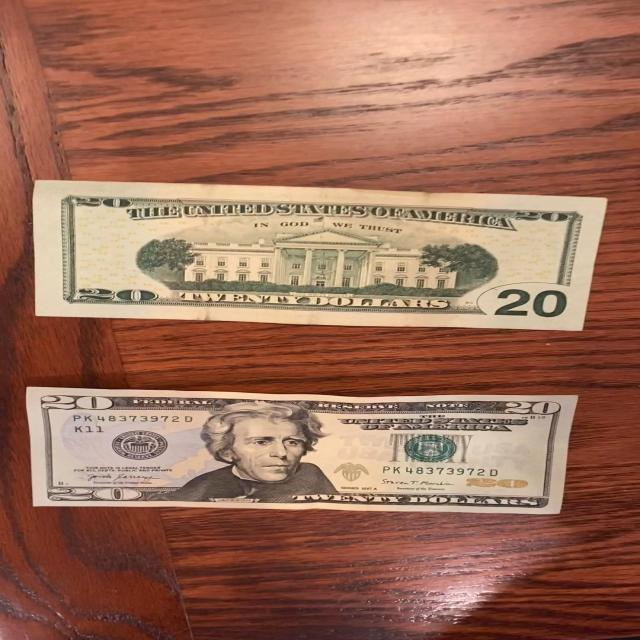20-Back: (27, 174, 620, 337)
20-Front: (16, 369, 594, 525)
